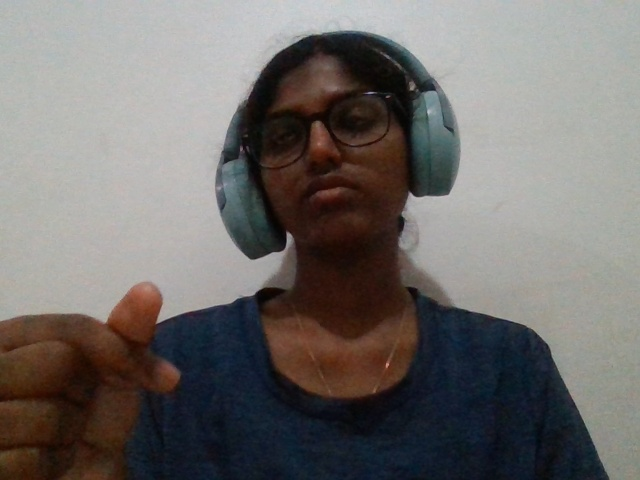G: (3, 234, 197, 480)
